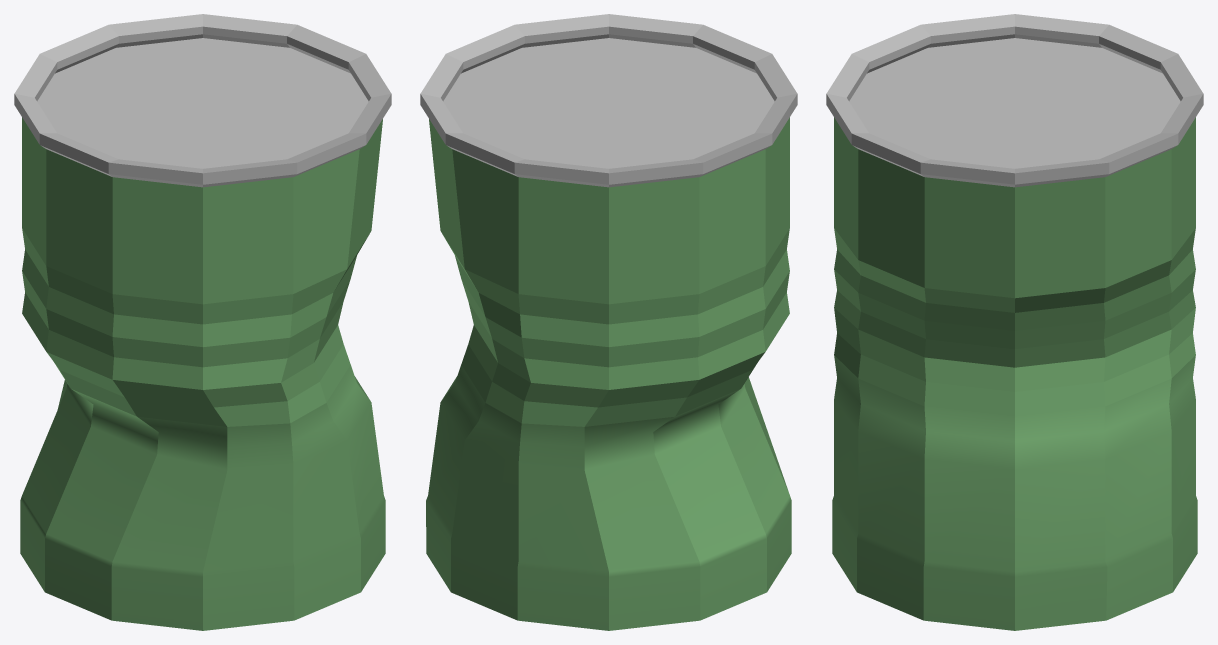
Rendered from Lata2.fbx.
3 renders of one model, left to right at view 1: azimuth 30°, elevation 25°; view 2: azimuth 150°, elevation 25°; view 3: azimuth 270°, elevation 25°, orthographic.
Parts seen in each view (by area): view 1: Can2; view 2: Can2; view 3: Can2.
Boxes of the visible parts, left/top/right/bottom form: Can2: left=14, top=14, right=391, bottom=630; Can2: left=420, top=14, right=797, bottom=630; Can2: left=826, top=14, right=1203, bottom=630.
Size of the model in its own units: 1.1 by 1.49 by 1.1.
